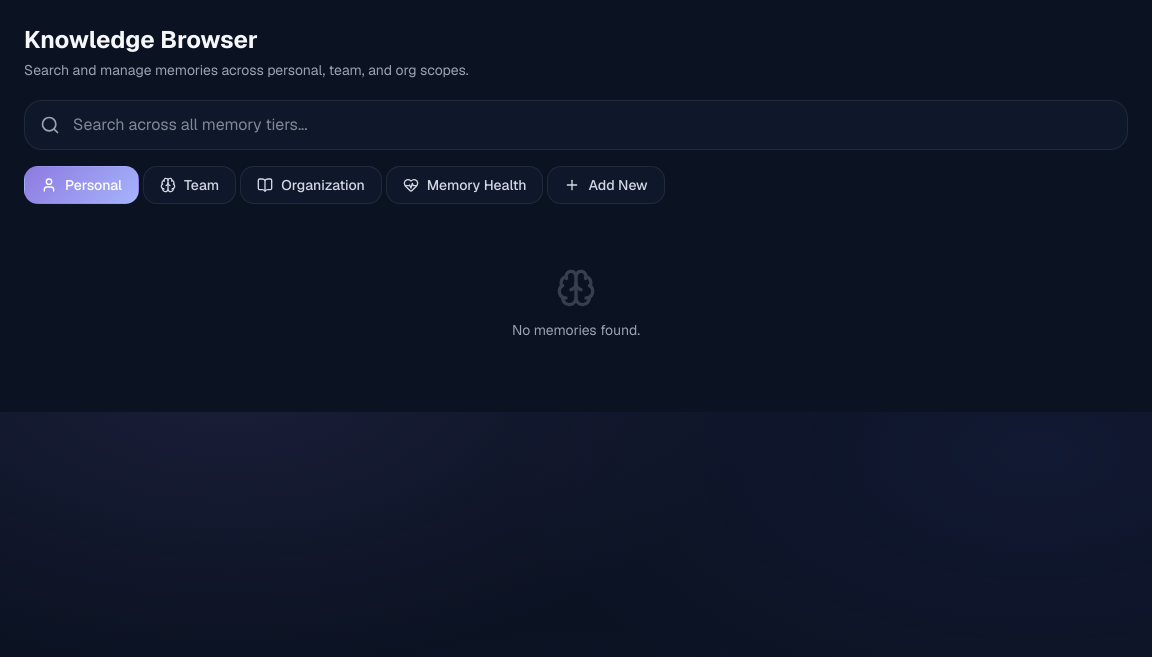
KnowledgeBrowser Memory Health › passes duplicate scenario card ids when applying a duplicate-card recommendation
The image size is (1152, 657).
Click the button "Memory Health" at (465, 185), box [386,166,544,204]
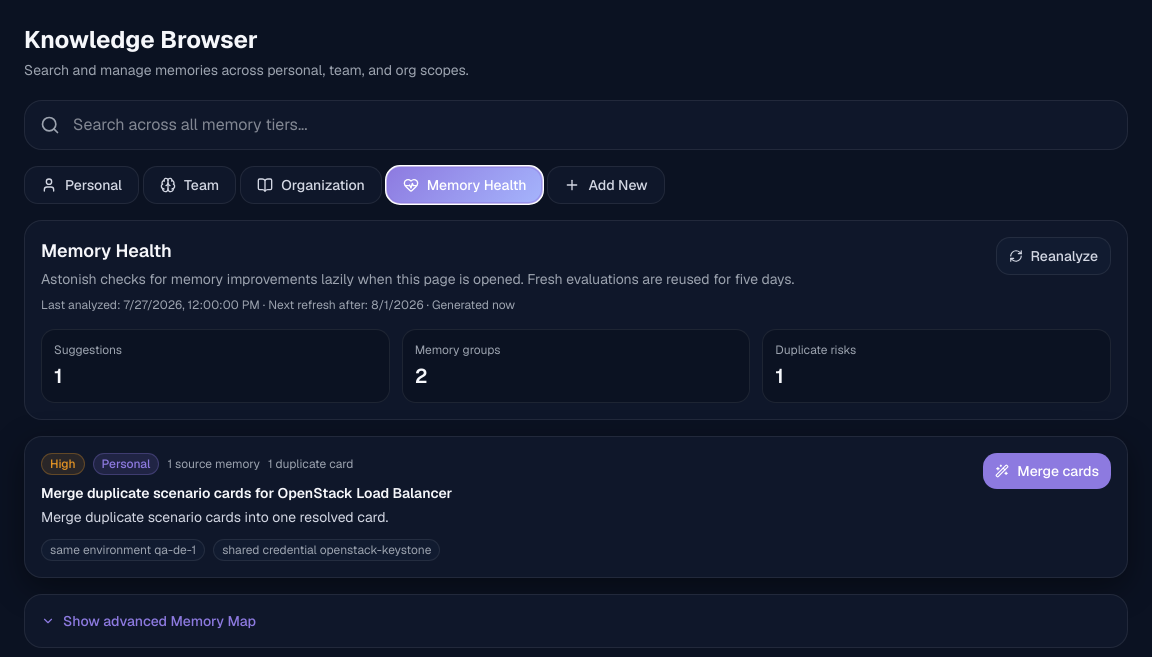
Check: the heading "Merge duplicate scenario cards for OpenStack Load Balancer" is shown, box [41,484,452,502]
Check: the text "shared credential openstack-keystone" is shown, box [213,539,440,561]
Click the button "Merge cards" at (1047, 471), box [983,453,1111,489]
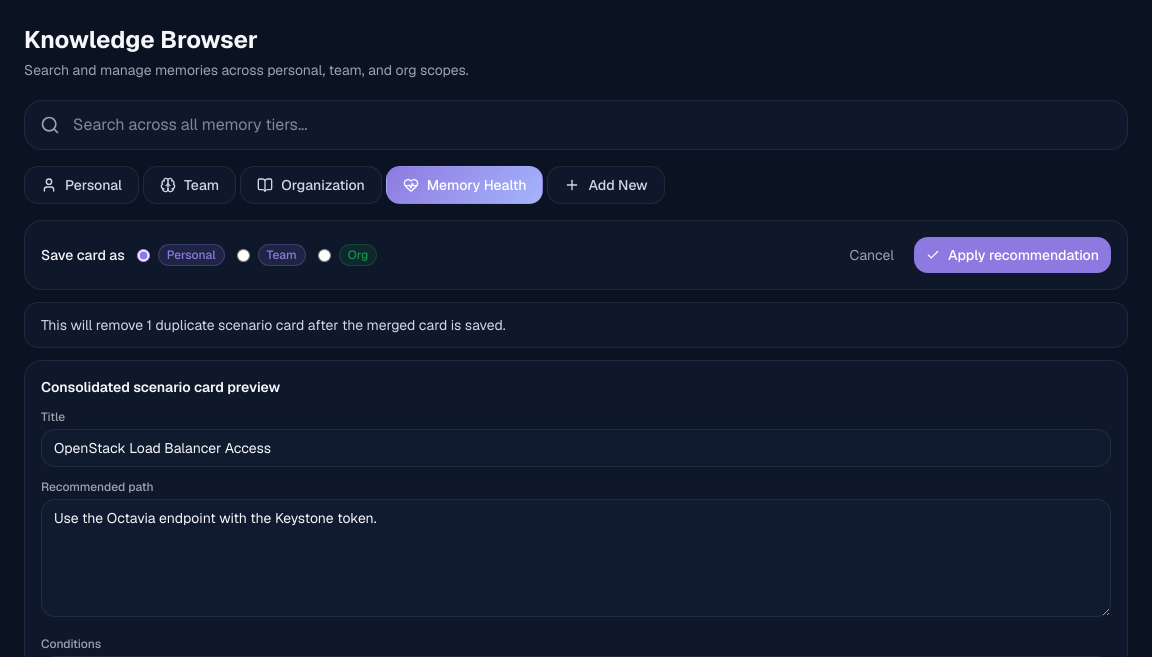
Check: the text "remove 1 duplicate scenario card" is shown, box [24,302,1128,348]
Click the button "Apply recommendation" at (1012, 255), box [914,237,1111,273]
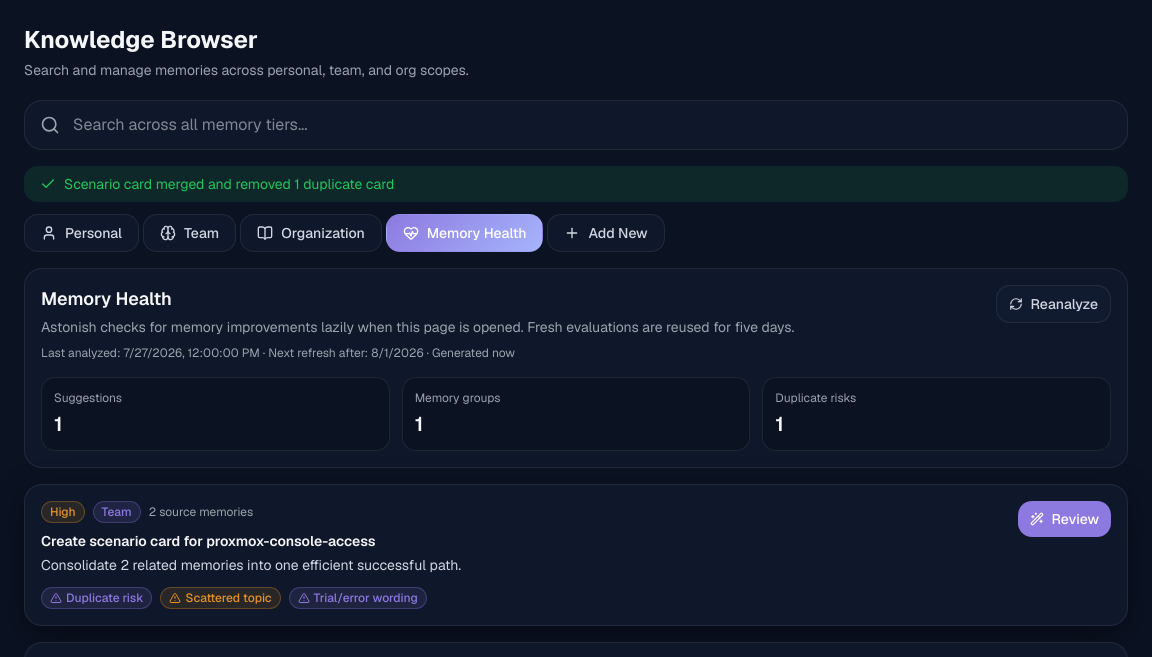
Check: the text "Scenario card merged and removed 1 duplicate card" is shown, box [24,166,1128,202]
